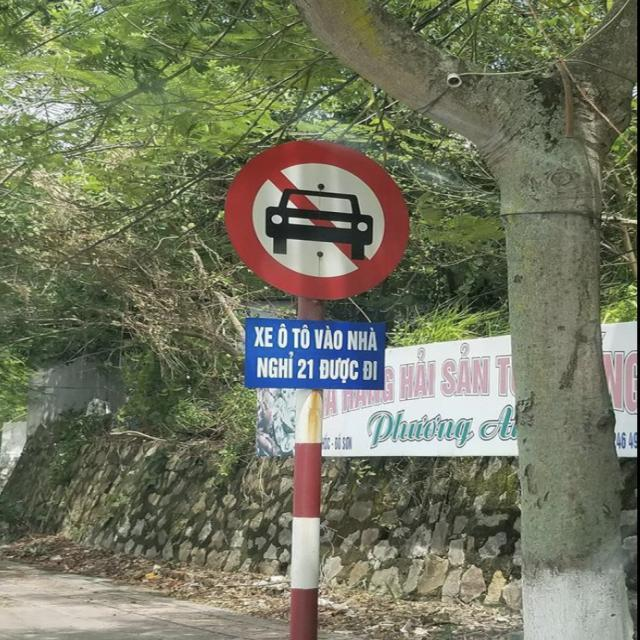103a-cam-oto: (226, 142, 407, 303)
